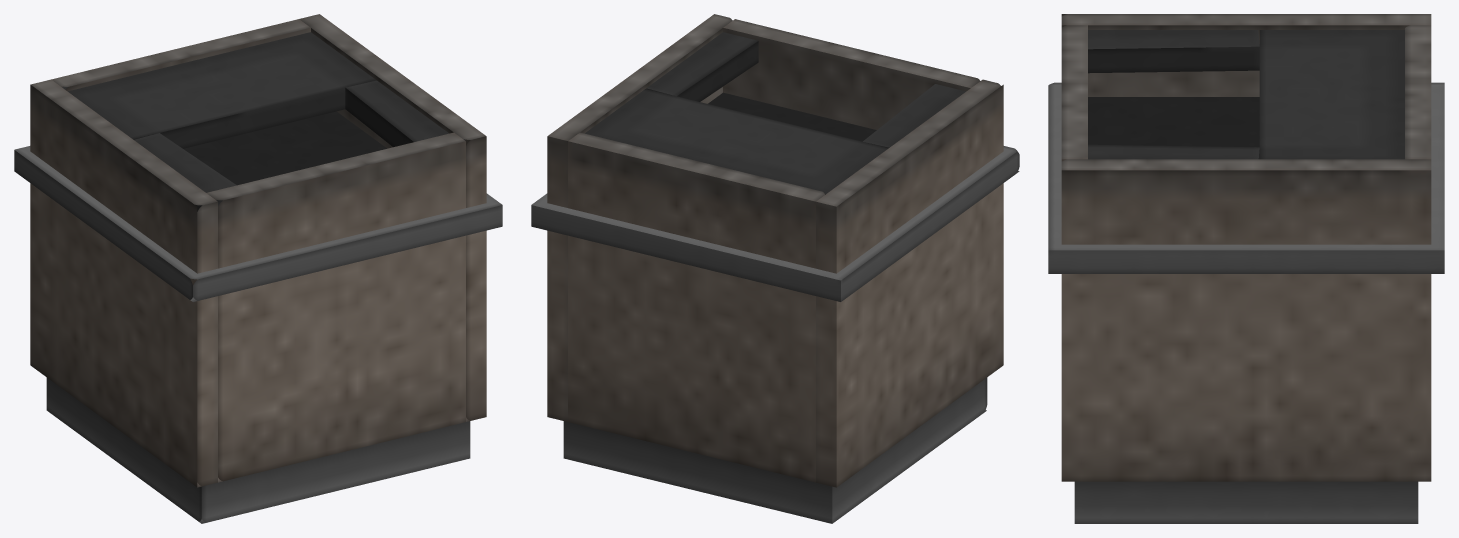
The model's file is streetbin.obj.
3 views of the same model, side by side, from view 1: azimuth 30°, elevation 25°; view 2: azimuth 150°, elevation 25°; view 3: azimuth 270°, elevation 25° (orthographic). The views are drawn at different scales.
Visible parts, largest first — view 1: baseModel3, baseModel0, baseModel4, baseModel5, baseModel8, baseModel1, baseModel2, baseModel7, baseModel6; view 2: baseModel2, baseModel0, baseModel4, baseModel5, baseModel8, baseModel3, baseModel1, baseModel7, baseModel6; view 3: baseModel1, baseModel4, baseModel5, baseModel8, baseModel0, baseModel6, baseModel3, baseModel2, baseModel7.
Part boxes in pixels (bbox=[...]): baseModel3: bbox=[206, 132, 465, 482]; baseModel0: bbox=[30, 79, 217, 487]; baseModel4: bbox=[46, 111, 470, 523]; baseModel5: bbox=[62, 32, 376, 148]; baseModel8: bbox=[14, 146, 502, 301]; baseModel1: bbox=[299, 14, 486, 421]; baseModel2: bbox=[51, 19, 310, 91]; baseModel7: bbox=[345, 80, 465, 147]; baseModel6: bbox=[134, 133, 236, 211]; baseModel2: bbox=[568, 132, 825, 482]; baseModel0: bbox=[816, 79, 1003, 487]; baseModel4: bbox=[563, 92, 987, 523]; baseModel5: bbox=[585, 89, 888, 194]; baseModel8: bbox=[531, 146, 1019, 301]; baseModel3: bbox=[723, 19, 980, 129]; baseModel1: bbox=[547, 14, 732, 421]; baseModel7: bbox=[646, 32, 758, 101]; baseModel6: bbox=[863, 84, 965, 147]; baseModel1: bbox=[1061, 159, 1431, 481]; baseModel4: bbox=[1074, 97, 1418, 523]; baseModel5: bbox=[1259, 30, 1404, 159]; baseModel8: bbox=[1048, 82, 1444, 273]; baseModel0: bbox=[1061, 14, 1431, 96]; baseModel6: bbox=[1088, 30, 1259, 73]; baseModel3: bbox=[1061, 25, 1087, 161]; baseModel2: bbox=[1405, 25, 1431, 159]; baseModel7: bbox=[1088, 144, 1259, 159].
Bounding box in the file's own units: 15 × 15 × 15.
